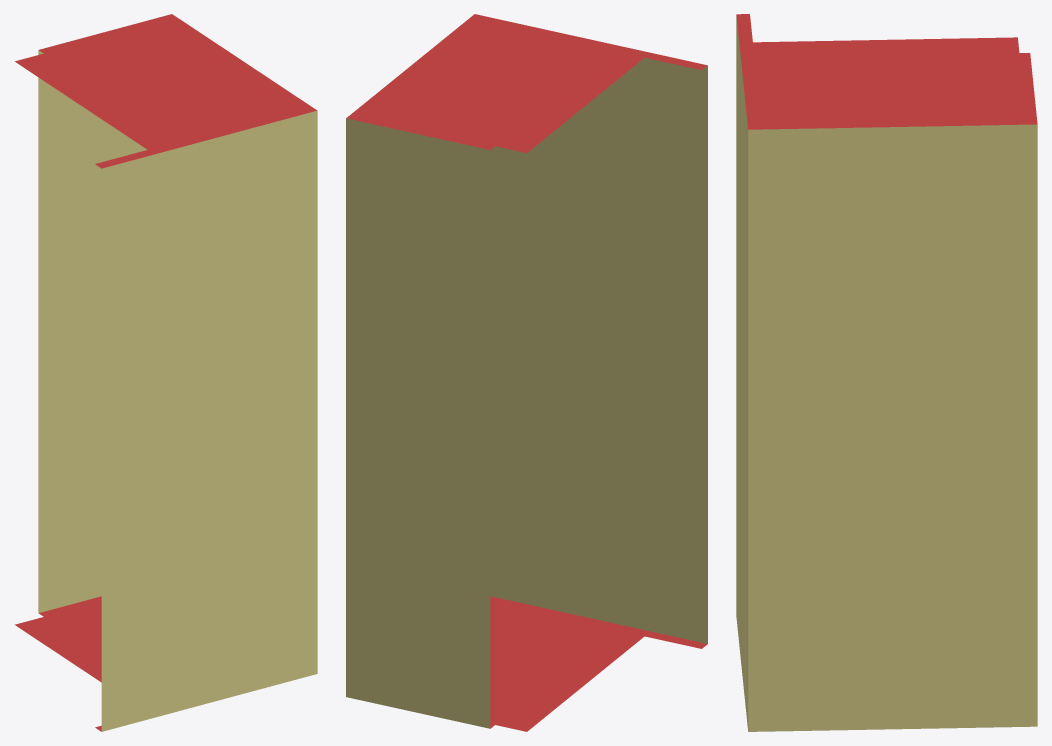
3 renders of one model, left to right at view 1: azimuth 30°, elevation 25°; view 2: azimuth 150°, elevation 25°; view 3: azimuth 270°, elevation 25°, orthographic. The views are drawn at different scales.
Size of the model in its own units: 4.16 by 4.57 by 10.09.
